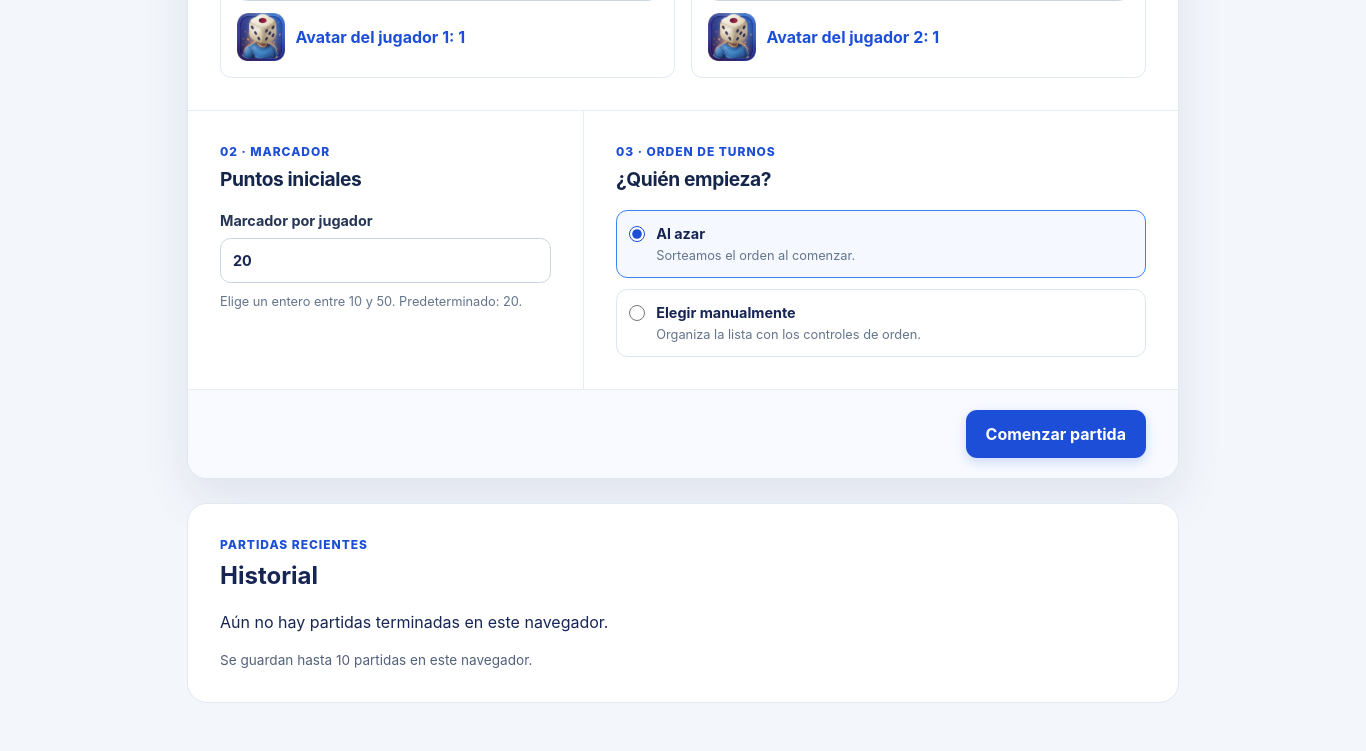
Scenario: App › oculta la navegación durante una partida y la recupera al salir
(page scrolled)
Click the button "Comenzar partida".
click(1056, 434)  # box 966,410 -> 1146,458
(page scrolled)
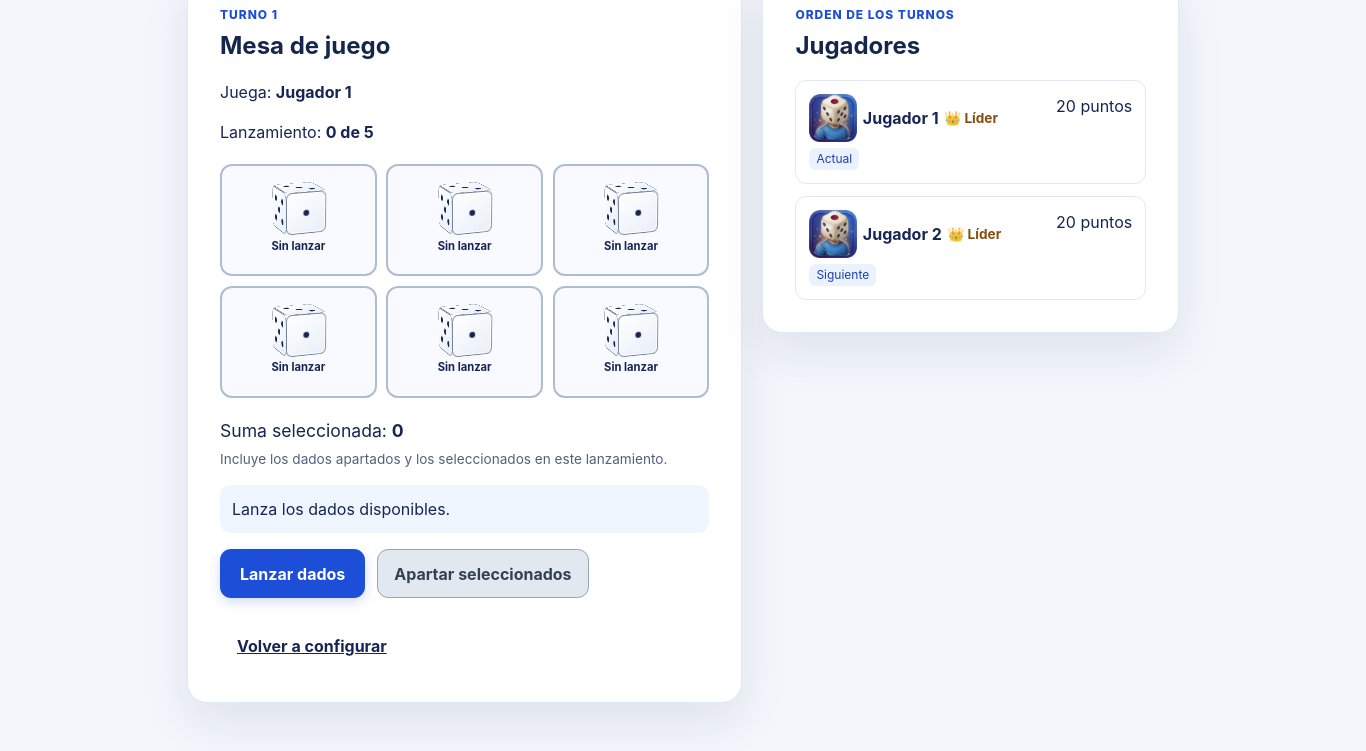
Click the button "Volver a configurar".
click(312, 646)  # box 220,622 -> 404,670
(page scrolled)
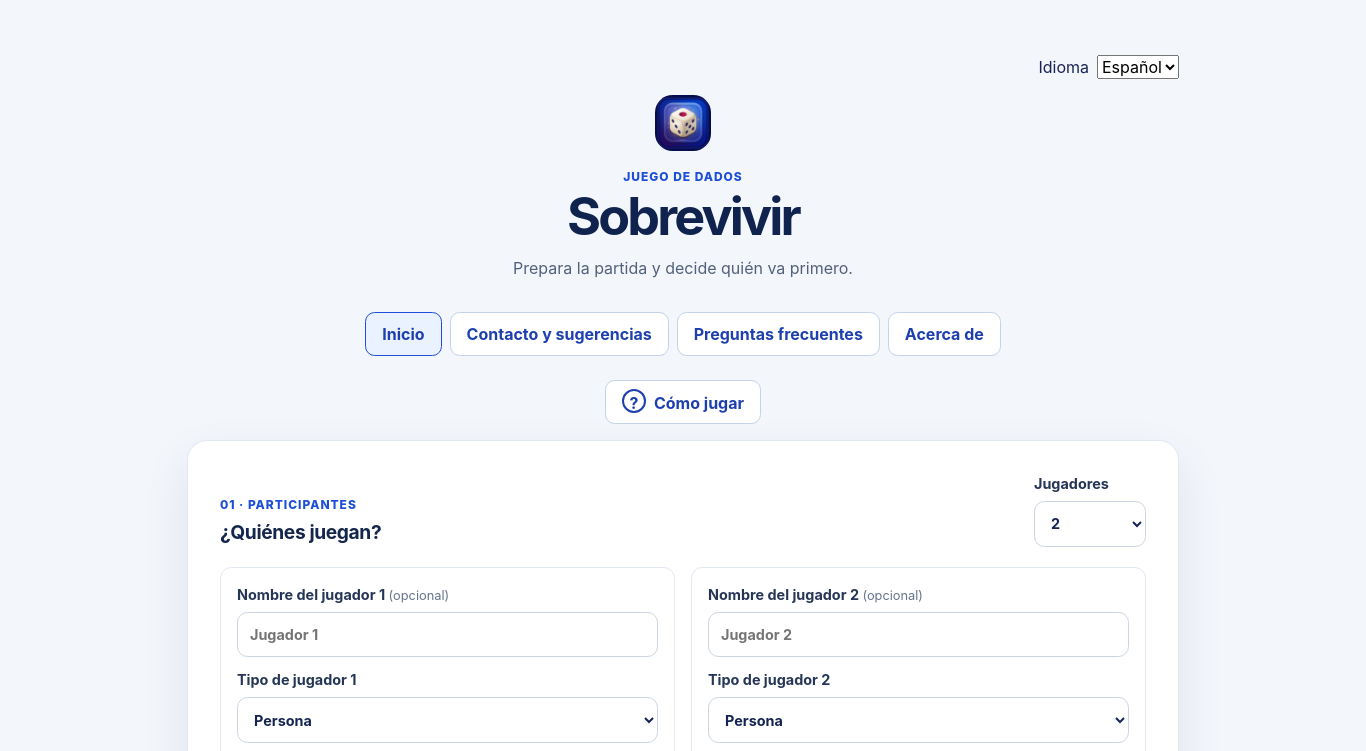
Result: the button "Contacto y sugerencias" is shown at 450,312 -> 669,356
Result: the button "Preguntas frecuentes" is shown at 677,312 -> 880,356
Result: the button "Acerca de" is shown at 888,312 -> 1001,356
